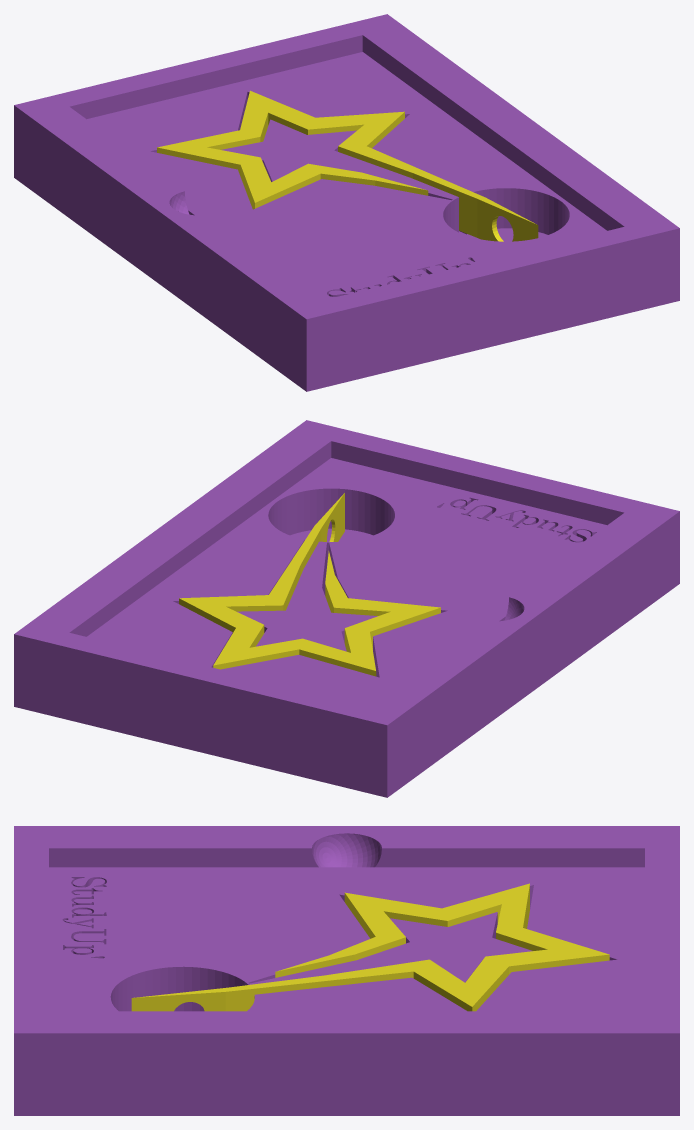
Rendered from étoile_boite.glb.
The picture shows the model from 3 angles, top to bottom: view 1: azimuth 30°, elevation 25°; view 2: azimuth 150°, elevation 25°; view 3: azimuth 270°, elevation 25°; orthographic projection. The views are drawn at different scales.
Parts seen in each view (by area): view 1: porte_clé_étoile; view 2: porte_clé_étoile; view 3: porte_clé_étoile.
Boxes of the visible parts, left/top/right/bottom form: porte_clé_étoile: left=14, top=14, right=679, bottom=391; porte_clé_étoile: left=14, top=420, right=679, bottom=797; porte_clé_étoile: left=14, top=826, right=679, bottom=1115.
Bounding box in the file's own units: 70 × 14 × 95.
